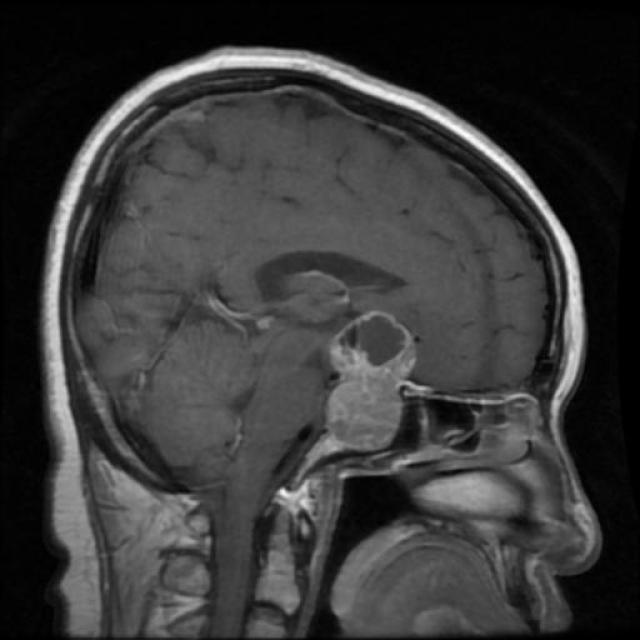pituitary: (314, 306, 417, 446)
